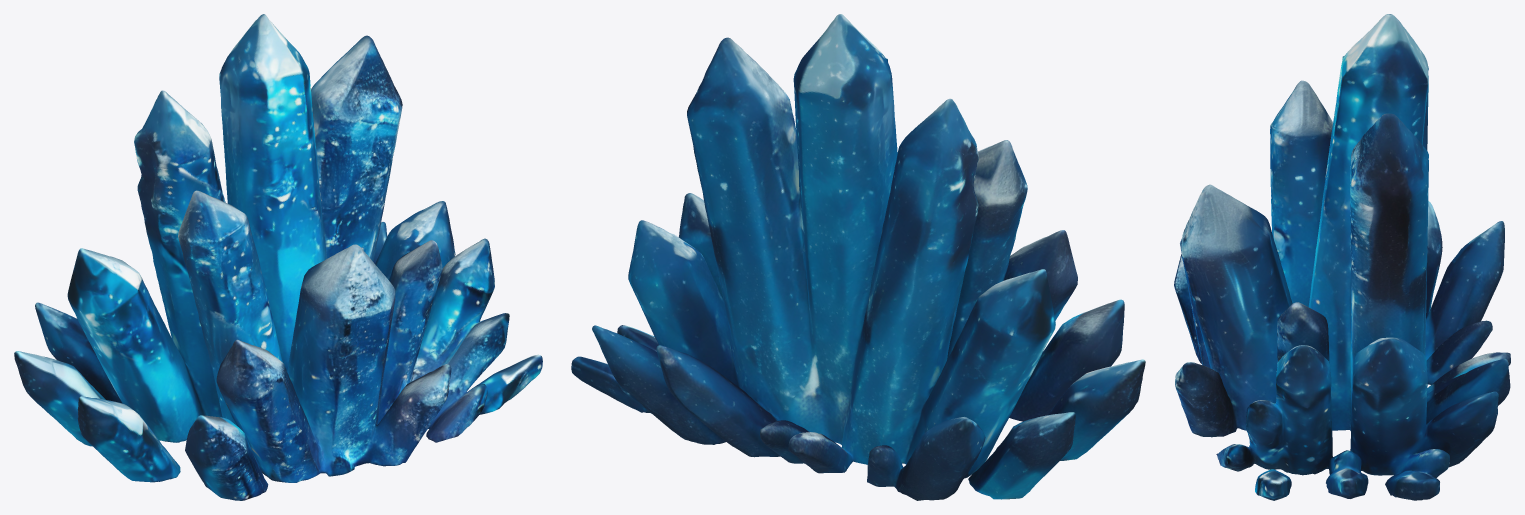
File: mine-magic-crystal.glb
3 views of the same model, side by side, from view 1: azimuth 30°, elevation 25°; view 2: azimuth 150°, elevation 25°; view 3: azimuth 270°, elevation 25° (orthographic). The views are drawn at different scales.
Visible parts, largest first — view 1: model_0; view 2: model_0; view 3: model_0.
Part boxes in pixels (x1,y1,x2,y2): model_0: (14,14,542,500); model_0: (571,14,1145,500); model_0: (1174,14,1510,500).
Bounding box in the file's own units: 1.78 × 1.46 × 1.12.
1 material, 1 textured.
